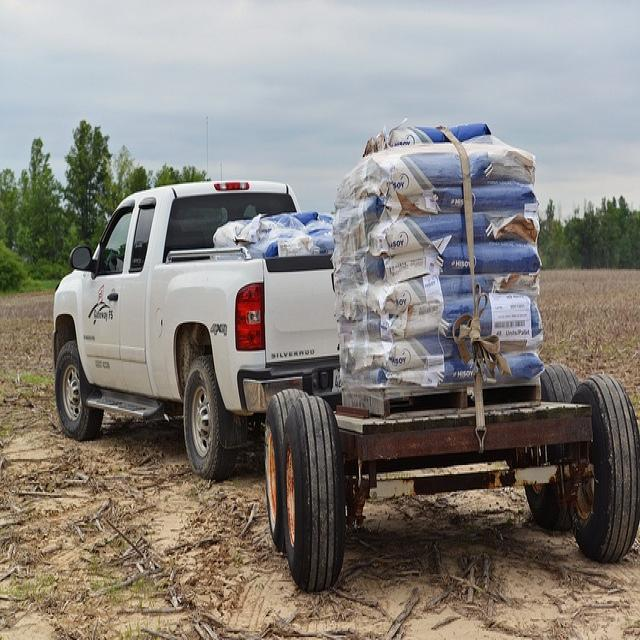truck: (51, 124, 639, 591)
